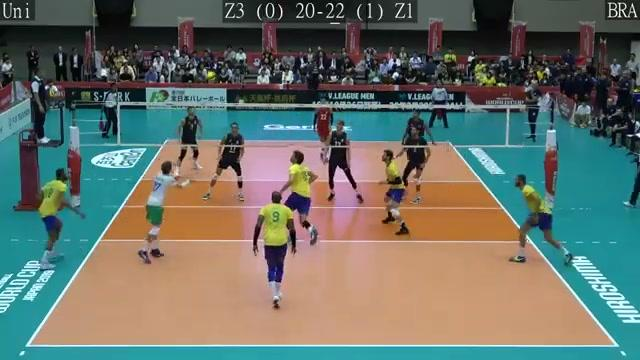ball: (204, 72, 219, 83)
